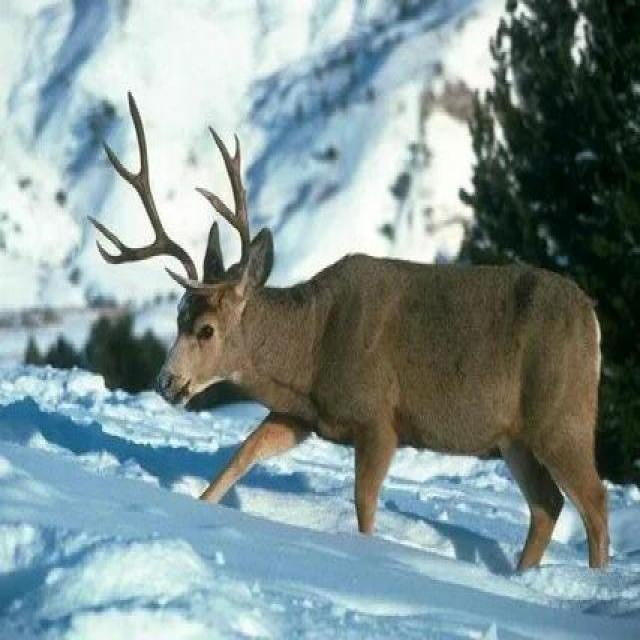deer: (72, 82, 640, 601)
